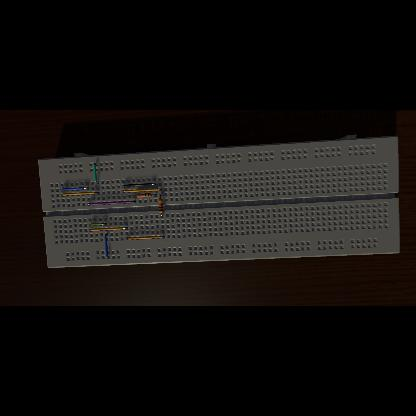breadboard: (38, 134, 400, 268)
resistor: (158, 199, 164, 213), (136, 194, 152, 198)
wire: (88, 201, 136, 205), (61, 192, 99, 196), (126, 236, 164, 240), (104, 234, 109, 258), (90, 228, 128, 231), (94, 164, 99, 182), (123, 190, 161, 192), (122, 184, 155, 186), (61, 188, 89, 190), (90, 224, 106, 226), (161, 214, 163, 217), (160, 196, 162, 198), (135, 196, 137, 196)
